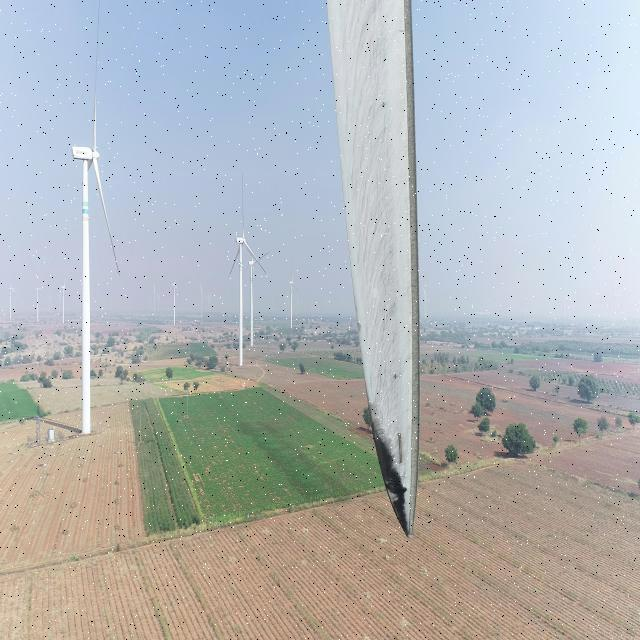Dirt: (327, 0, 421, 540)
Oil LEAKAGE: (372, 423, 413, 538)
Pin Hole: (380, 96, 391, 114), (391, 369, 401, 382), (402, 481, 408, 498)
